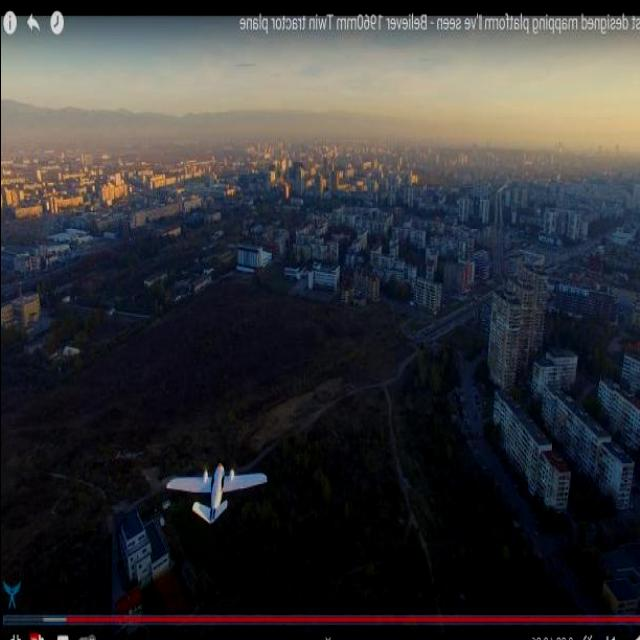plane: (162, 462, 266, 524)
